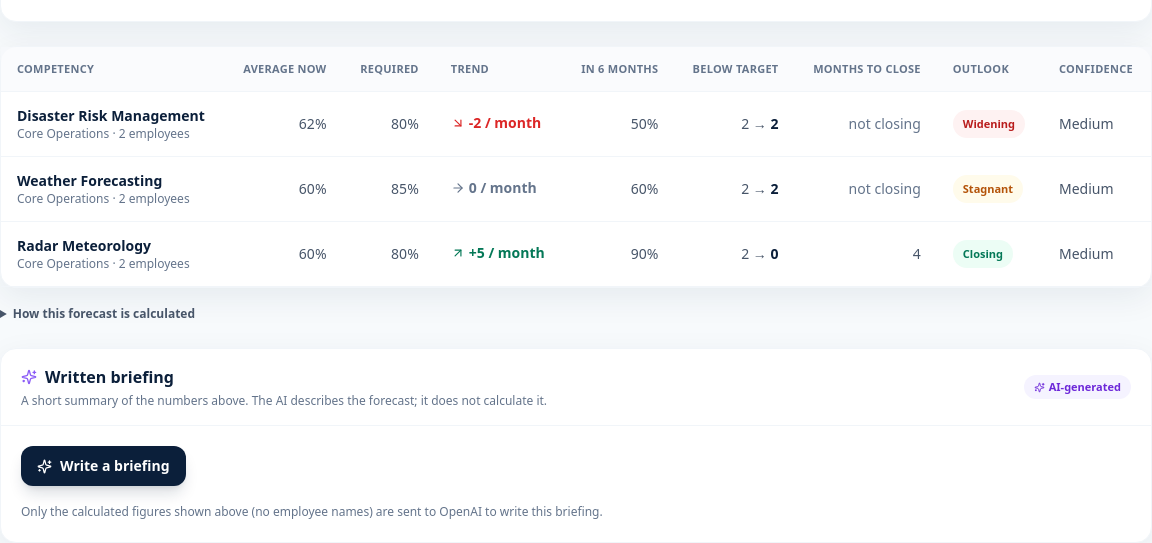
Scenario: training-needs forecast › written briefing › shows why a briefing could not be written
(page scrolled)
Click the button "Write a briefing": (103, 466) [21,446,186,486]
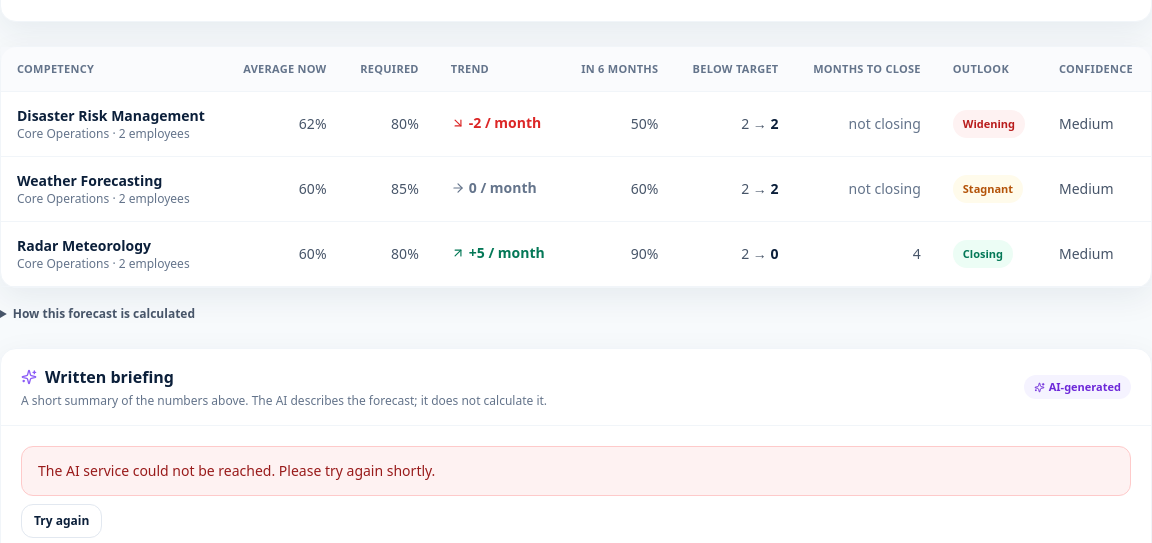
Expected: the text "The AI service could not be reached. Please try again shortly." is shown, [21,446,1131,496]
